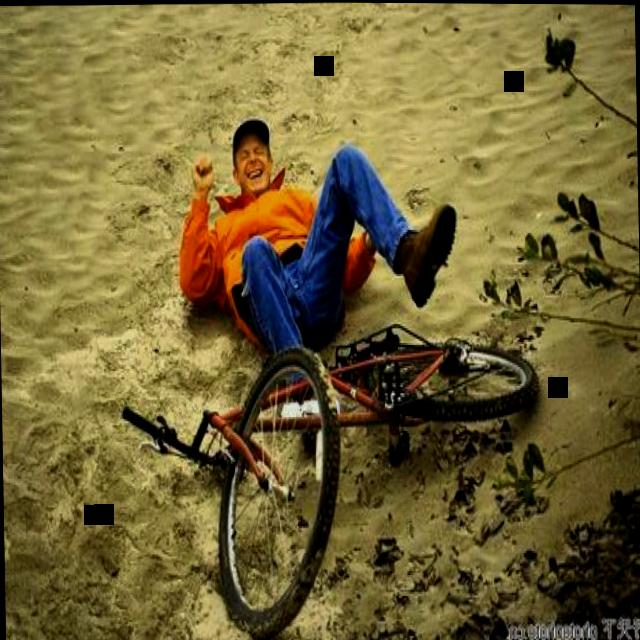Fall-Detected: (154, 96, 472, 436)
